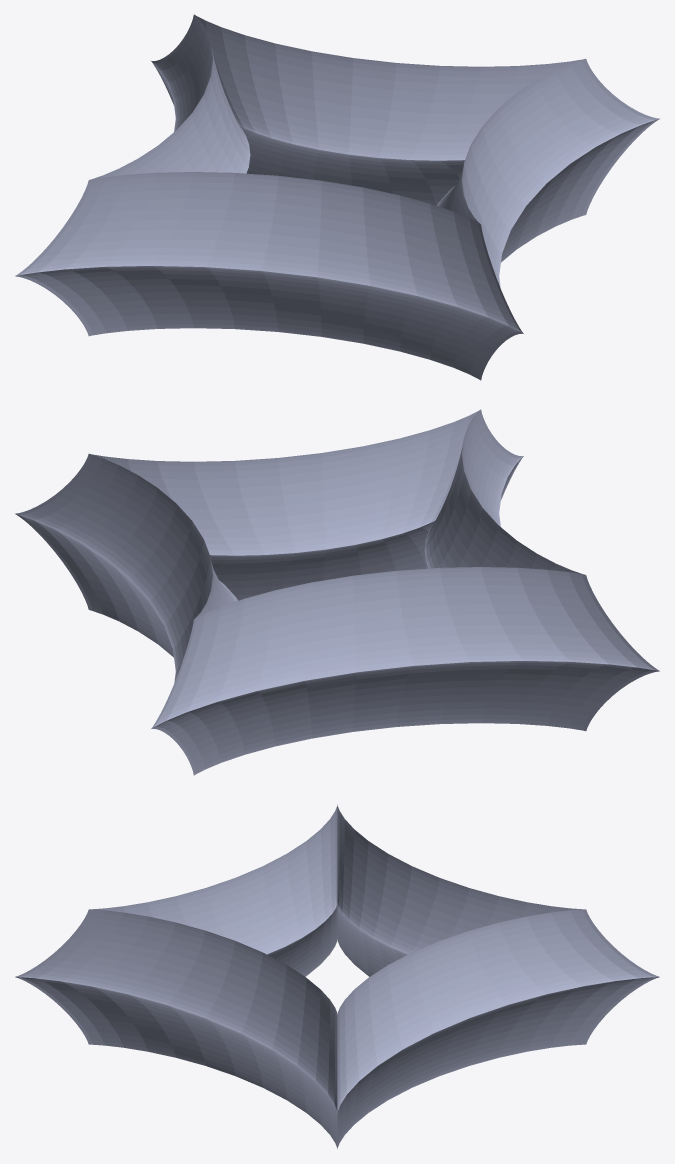
File: Trororus.glb
3 views of the same model, one above another, from view 1: azimuth 30°, elevation 25°; view 2: azimuth 150°, elevation 25°; view 3: azimuth 270°, elevation 25° (orthographic). The views are drawn at different scales.
Visible parts, largest first — view 1: SuperToroid; view 2: SuperToroid; view 3: SuperToroid.
Boxes of the visible parts, left/top/right/bottom form: SuperToroid: left=15, top=14, right=659, bottom=380; SuperToroid: left=15, top=409, right=659, bottom=775; SuperToroid: left=15, top=804, right=659, bottom=1149.
Size of the model in its own units: 2.6 by 0.6 by 2.6.
